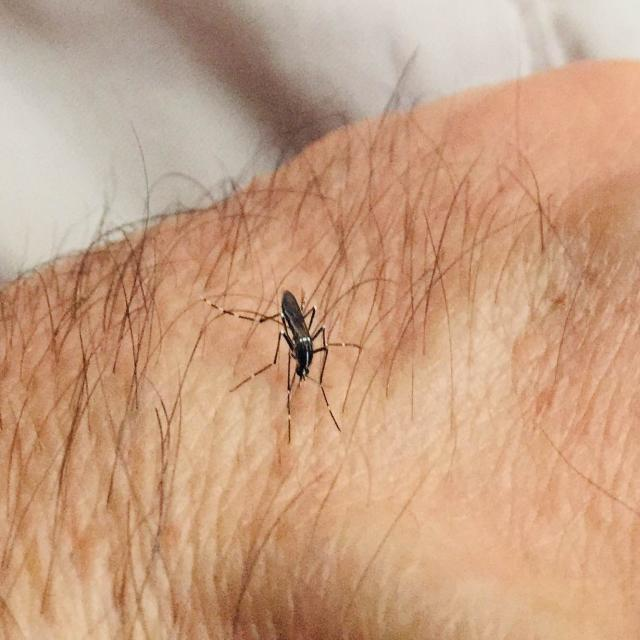albopictus: (191, 270, 363, 447)
